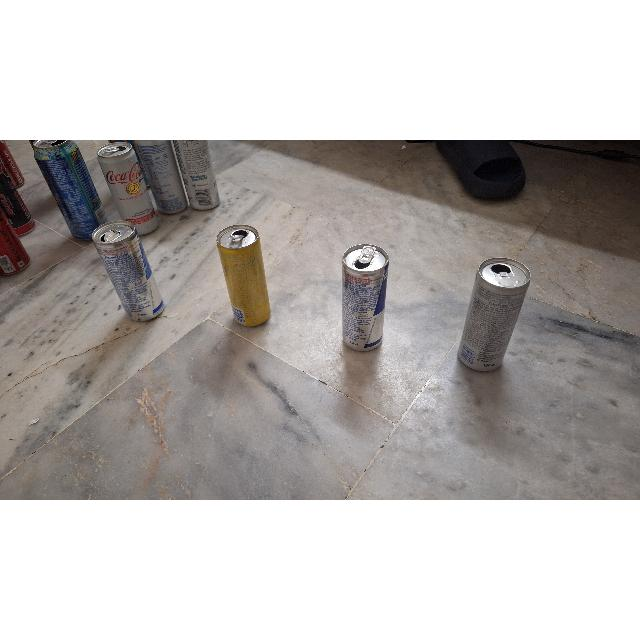Coca Cola: (1, 140, 36, 182)
Coca Cola Plus: (98, 146, 158, 234)
Coca Cola Zero: (1, 212, 40, 266)
Hell Apple: (1, 168, 40, 232)
Pepsi Retro: (137, 140, 189, 212)
Redbull: (339, 245, 389, 357)
Redbull DanceYourStyle: (91, 225, 167, 329)
Redbull Yellow Edition: (215, 225, 279, 328)
White Monster: (460, 255, 528, 372), (177, 140, 223, 213)
